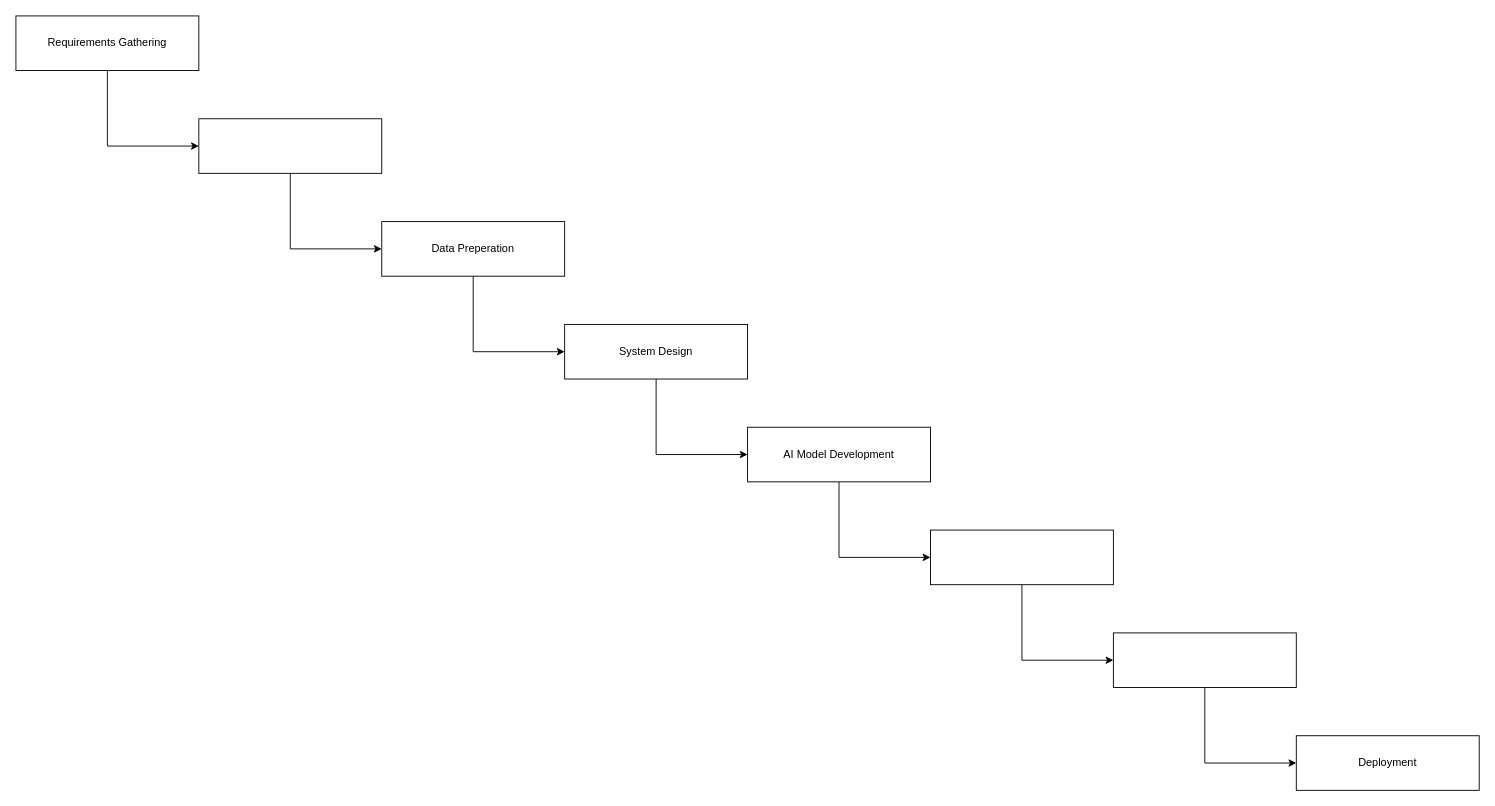
The diagram is 1495 pixels wide and 806 high, and some of its shapes have lost their labels. Each missing label, with the centre of its shape:
"Data Collection" goes at [290,145].
"System Implementation" goes at [1021,557].
"Testing & Validation" goes at [1204,660].
